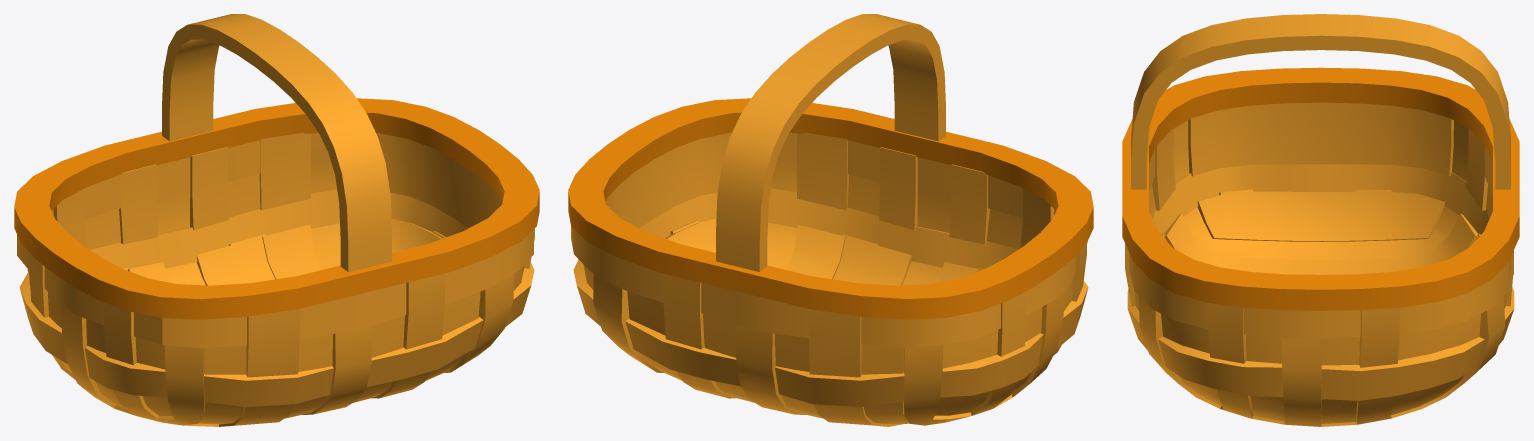
Rendered from basket.glb.
3 views of the same model, side by side, from view 1: azimuth 30°, elevation 25°; view 2: azimuth 150°, elevation 25°; view 3: azimuth 270°, elevation 25° (orthographic).
Visible parts, largest first — view 1: Cube.1014, Cube.1015; view 2: Cube.1014, Cube.1015; view 3: Cube.1014, Cube.1015.
Boxes of the visible parts, <box> form: Cube.1014: <box>17,14,534,426</box>; Cube.1015: <box>14,98,539,319</box>; Cube.1014: <box>571,14,1088,426</box>; Cube.1015: <box>568,98,1093,319</box>; Cube.1014: <box>1125,14,1514,426</box>; Cube.1015: <box>1122,67,1519,310</box>.
Size of the model in its own units: 2.33 by 1.65 by 1.76.
1 material, 1 textured.
